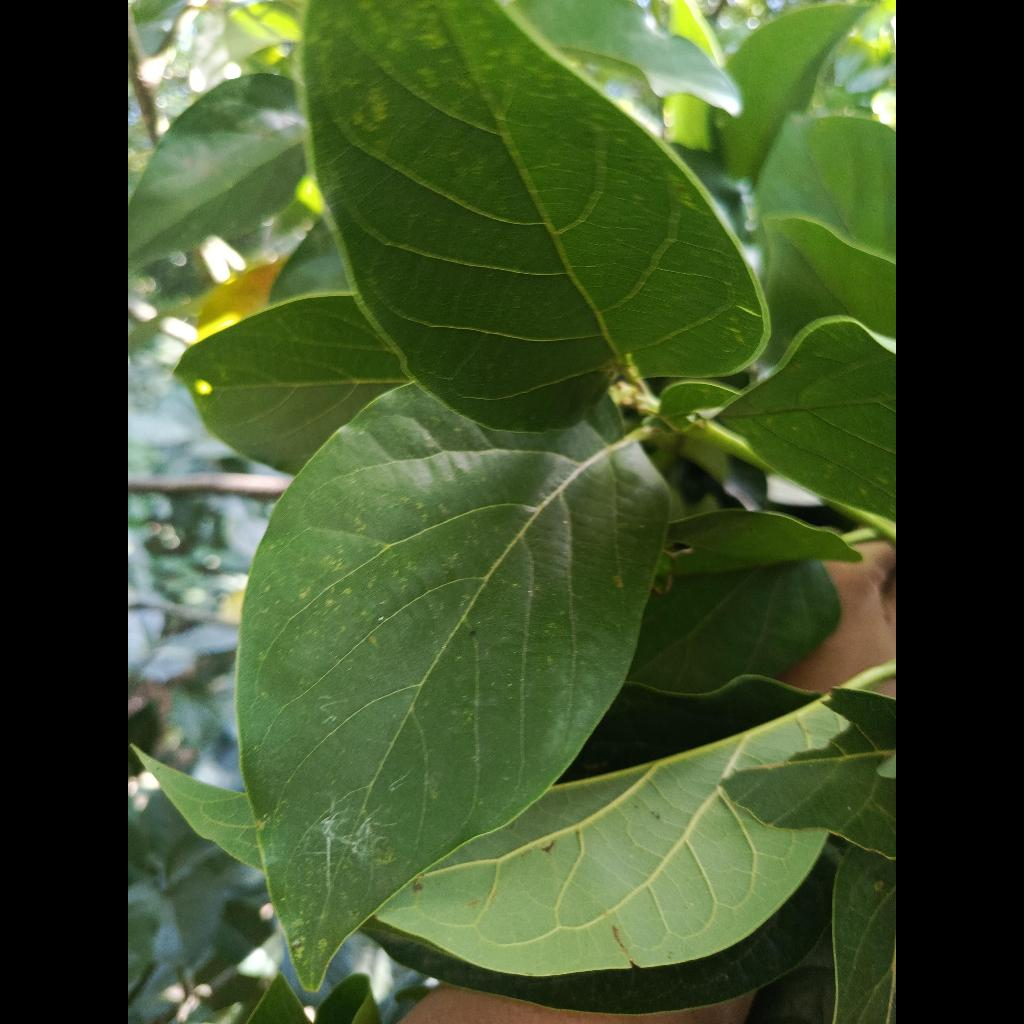Healthy: (237, 385, 666, 987), (304, 0, 764, 431)
